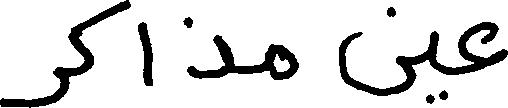X: (339, 2, 415, 100), (70, 0, 128, 81), (186, 12, 233, 83), (458, 17, 507, 79), (0, 62, 67, 107), (267, 39, 297, 84), (137, 17, 151, 90), (429, 26, 438, 107)
